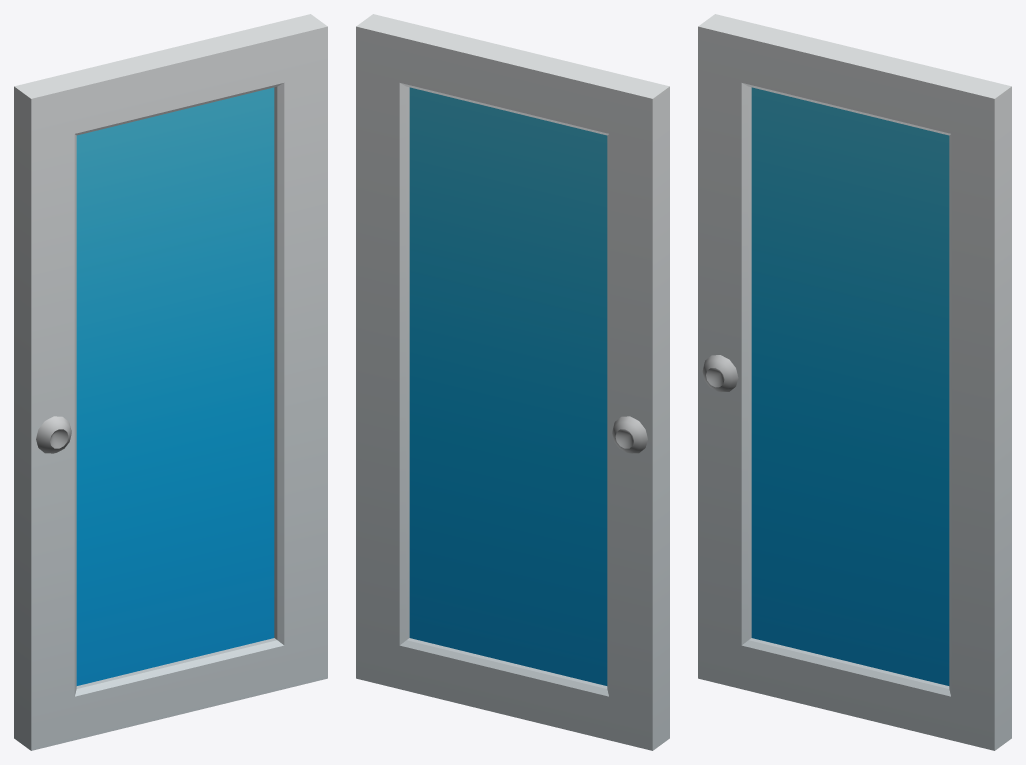
Rendered from Door_White_05.glb.
3 views of the same model, side by side, from view 1: azimuth 30°, elevation 25°; view 2: azimuth 150°, elevation 25°; view 3: azimuth 330°, elevation 25° (orthographic).
Visible parts, largest first — view 1: Door_White_05; view 2: Door_White_05; view 3: Door_White_05.
Boxes of the visible parts, <box> form: Door_White_05: <box>14,14,327,750</box>; Door_White_05: <box>356,14,669,750</box>; Door_White_05: <box>698,14,1011,750</box>.
Bounding box in the file's own units: 1 × 2.1 × 0.1634.
2 materials, 2 textured.
